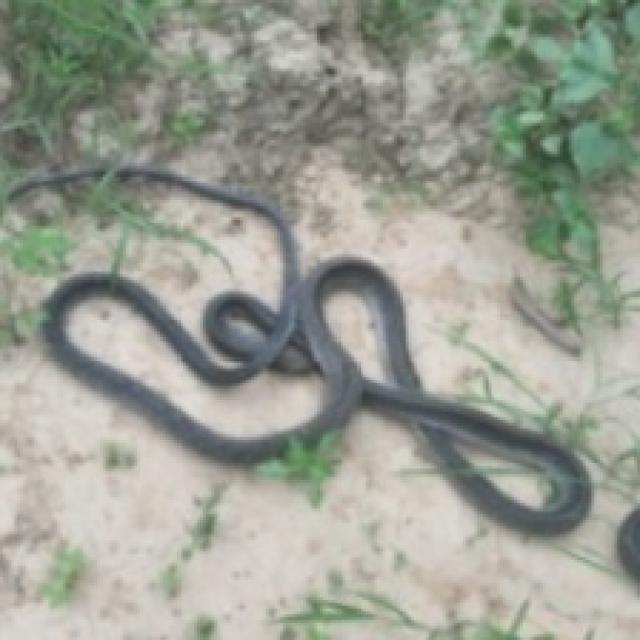king cobra: (9, 163, 589, 531), (66, 294, 326, 434)
